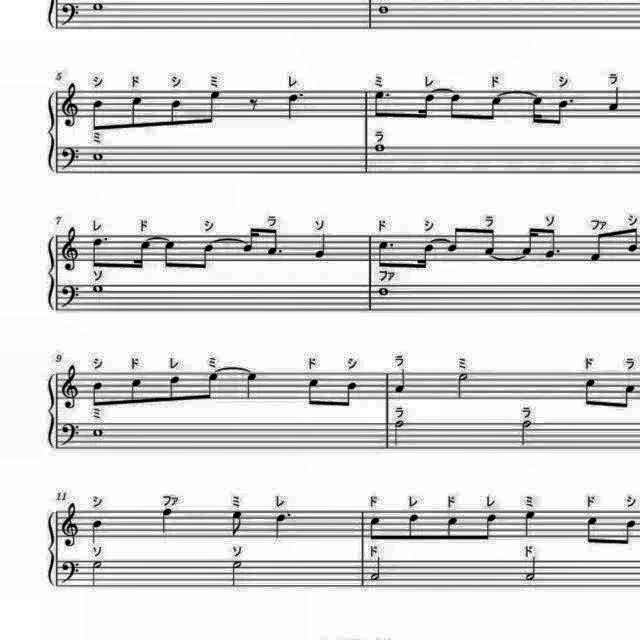Bass-clef: (58, 143, 82, 173), (57, 0, 82, 28), (59, 419, 82, 449), (58, 558, 82, 586), (59, 282, 82, 310)
Eighth-note: (199, 88, 225, 128), (86, 235, 110, 273), (195, 240, 219, 276), (540, 226, 564, 262), (125, 92, 146, 132), (160, 235, 182, 273), (616, 382, 640, 416), (552, 94, 574, 130), (482, 92, 506, 125), (478, 511, 502, 544), (580, 374, 602, 410), (618, 514, 640, 550), (582, 512, 604, 548), (587, 230, 609, 266), (338, 378, 362, 410), (376, 237, 398, 271), (265, 227, 287, 260), (166, 94, 186, 130), (304, 374, 324, 410), (371, 90, 393, 122), (87, 95, 105, 134), (404, 511, 424, 545), (202, 369, 222, 403), (128, 374, 146, 410), (164, 374, 184, 406), (443, 512, 463, 544), (446, 92, 466, 124), (228, 508, 248, 540), (445, 224, 465, 256), (90, 378, 108, 410), (482, 227, 500, 257), (367, 513, 385, 543), (624, 224, 640, 256)
Eighth-rest: (242, 92, 262, 112)
Full-note: (89, 148, 107, 164), (375, 1, 393, 16), (90, 424, 106, 440), (372, 141, 390, 155), (89, 0, 107, 14), (376, 284, 392, 298), (90, 282, 106, 294)
Half-note: (452, 371, 472, 402), (518, 416, 536, 448), (391, 417, 409, 449), (227, 558, 245, 590), (90, 558, 106, 590), (367, 554, 385, 582), (523, 555, 541, 583)
Quarter-dot: (282, 90, 306, 122), (270, 511, 294, 542)
Quarter-note: (520, 508, 540, 540), (240, 368, 260, 400), (158, 507, 178, 538), (312, 232, 332, 262), (606, 86, 626, 114), (392, 366, 410, 394), (90, 516, 106, 544)
Sixteenth-note: (130, 235, 154, 273), (415, 237, 439, 271), (526, 92, 546, 130), (416, 88, 438, 122), (520, 225, 540, 257), (240, 224, 260, 256)
Treble-clef: (59, 360, 85, 410), (60, 79, 84, 129), (60, 503, 84, 552), (60, 223, 84, 271)
